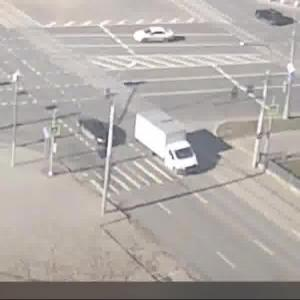car: (134, 109, 205, 178), (76, 119, 128, 152), (129, 23, 180, 47), (257, 4, 294, 32)
